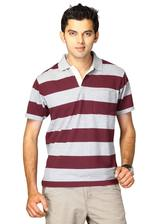clothoes: (16, 58, 136, 186)
